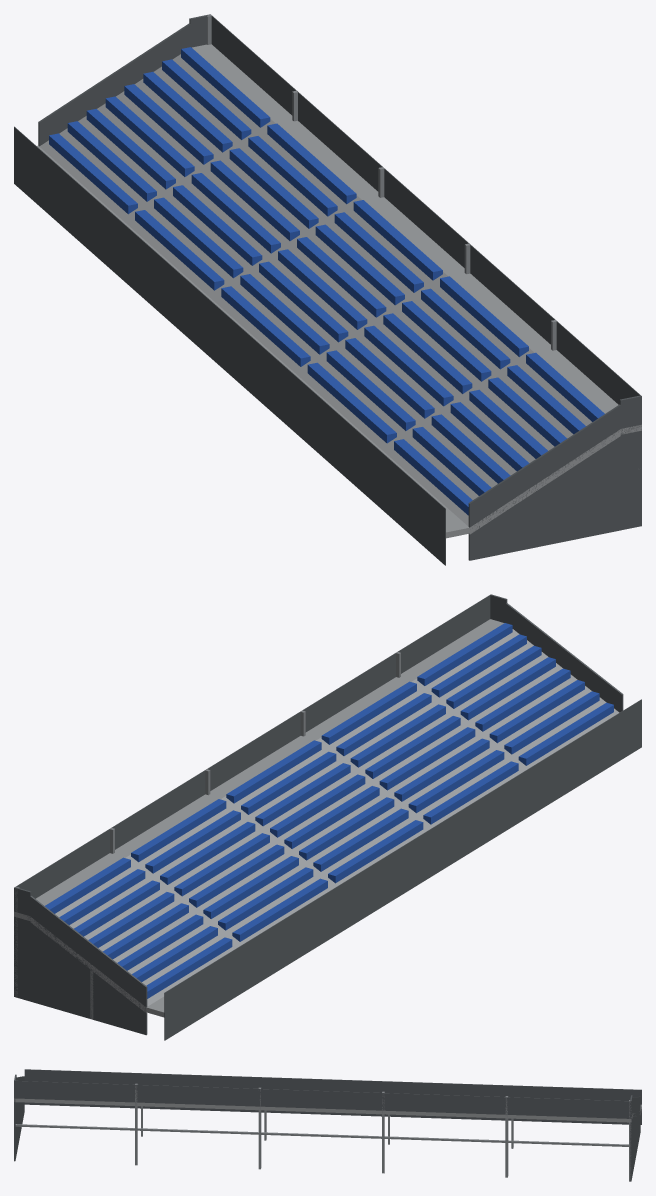
File: mza_stand_parabolica_int_b.glb
3 renders of one model, top to bottom at view 1: azimuth 30°, elevation 25°; view 2: azimuth 150°, elevation 25°; view 3: azimuth 270°, elevation 25°, orthographic. The views are drawn at different scales.
Visible parts, largest first — view 1: monza-parabolica-int-b; view 2: monza-parabolica-int-b; view 3: monza-parabolica-int-b.
Part boxes in pixels (x1=…): monza-parabolica-int-b: x1=14, y1=14, x2=641, y2=565; monza-parabolica-int-b: x1=14, y1=594, x2=641, y2=1040; monza-parabolica-int-b: x1=14, y1=1069, x2=641, y2=1181.
Bounding box in the file's own units: 11.3 × 5.48 × 38.83.
